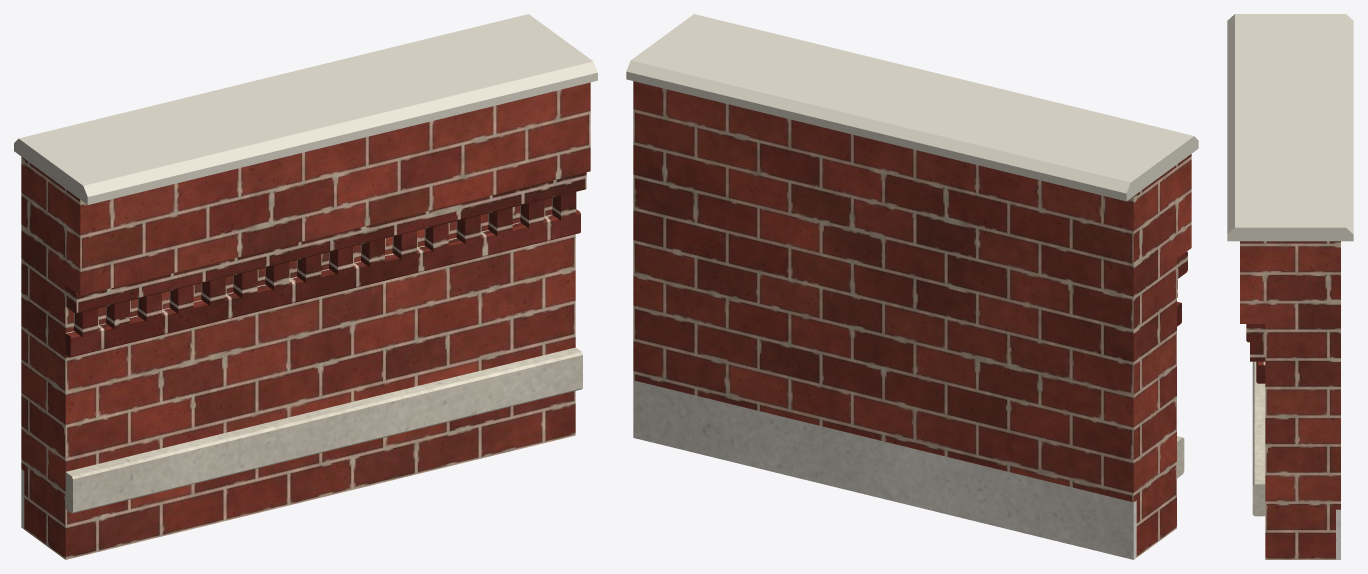
File: s_parapet.glb
3 renders of one model, left to right at view 1: azimuth 30°, elevation 25°; view 2: azimuth 150°, elevation 25°; view 3: azimuth 270°, elevation 25°, orthographic. The views are drawn at different scales.
Parts seen in each view (by area): view 1: s_parapet_brick, s_parapet_coping, s_parapet_brick2, s_parapet_trim; view 2: s_parapet_brick, s_parapet_coping, s_parapet_plaster; view 3: s_parapet_coping, s_parapet_brick, s_parapet_trim, s_parapet_brick2, s_parapet_plaster.
Part boxes in pixels (box(x1,y1,x2,y2)): s_parapet_brick: box(21, 82, 590, 559); s_parapet_coping: box(14, 14, 597, 204); s_parapet_brick2: box(65, 172, 586, 357); s_parapet_trim: box(65, 347, 582, 513); s_parapet_brick: box(633, 81, 1191, 557); s_parapet_coping: box(626, 14, 1198, 201); s_parapet_plaster: box(633, 380, 1136, 559); s_parapet_coping: box(1227, 14, 1353, 241); s_parapet_brick: box(1240, 241, 1340, 559); s_parapet_trim: box(1252, 361, 1265, 516); s_parapet_brick2: box(1246, 324, 1265, 383); s_parapet_plaster: box(1336, 509, 1340, 559).
Size of the model in its own units: 2 by 1.45 by 0.5.
5 materials, 4 textured.
